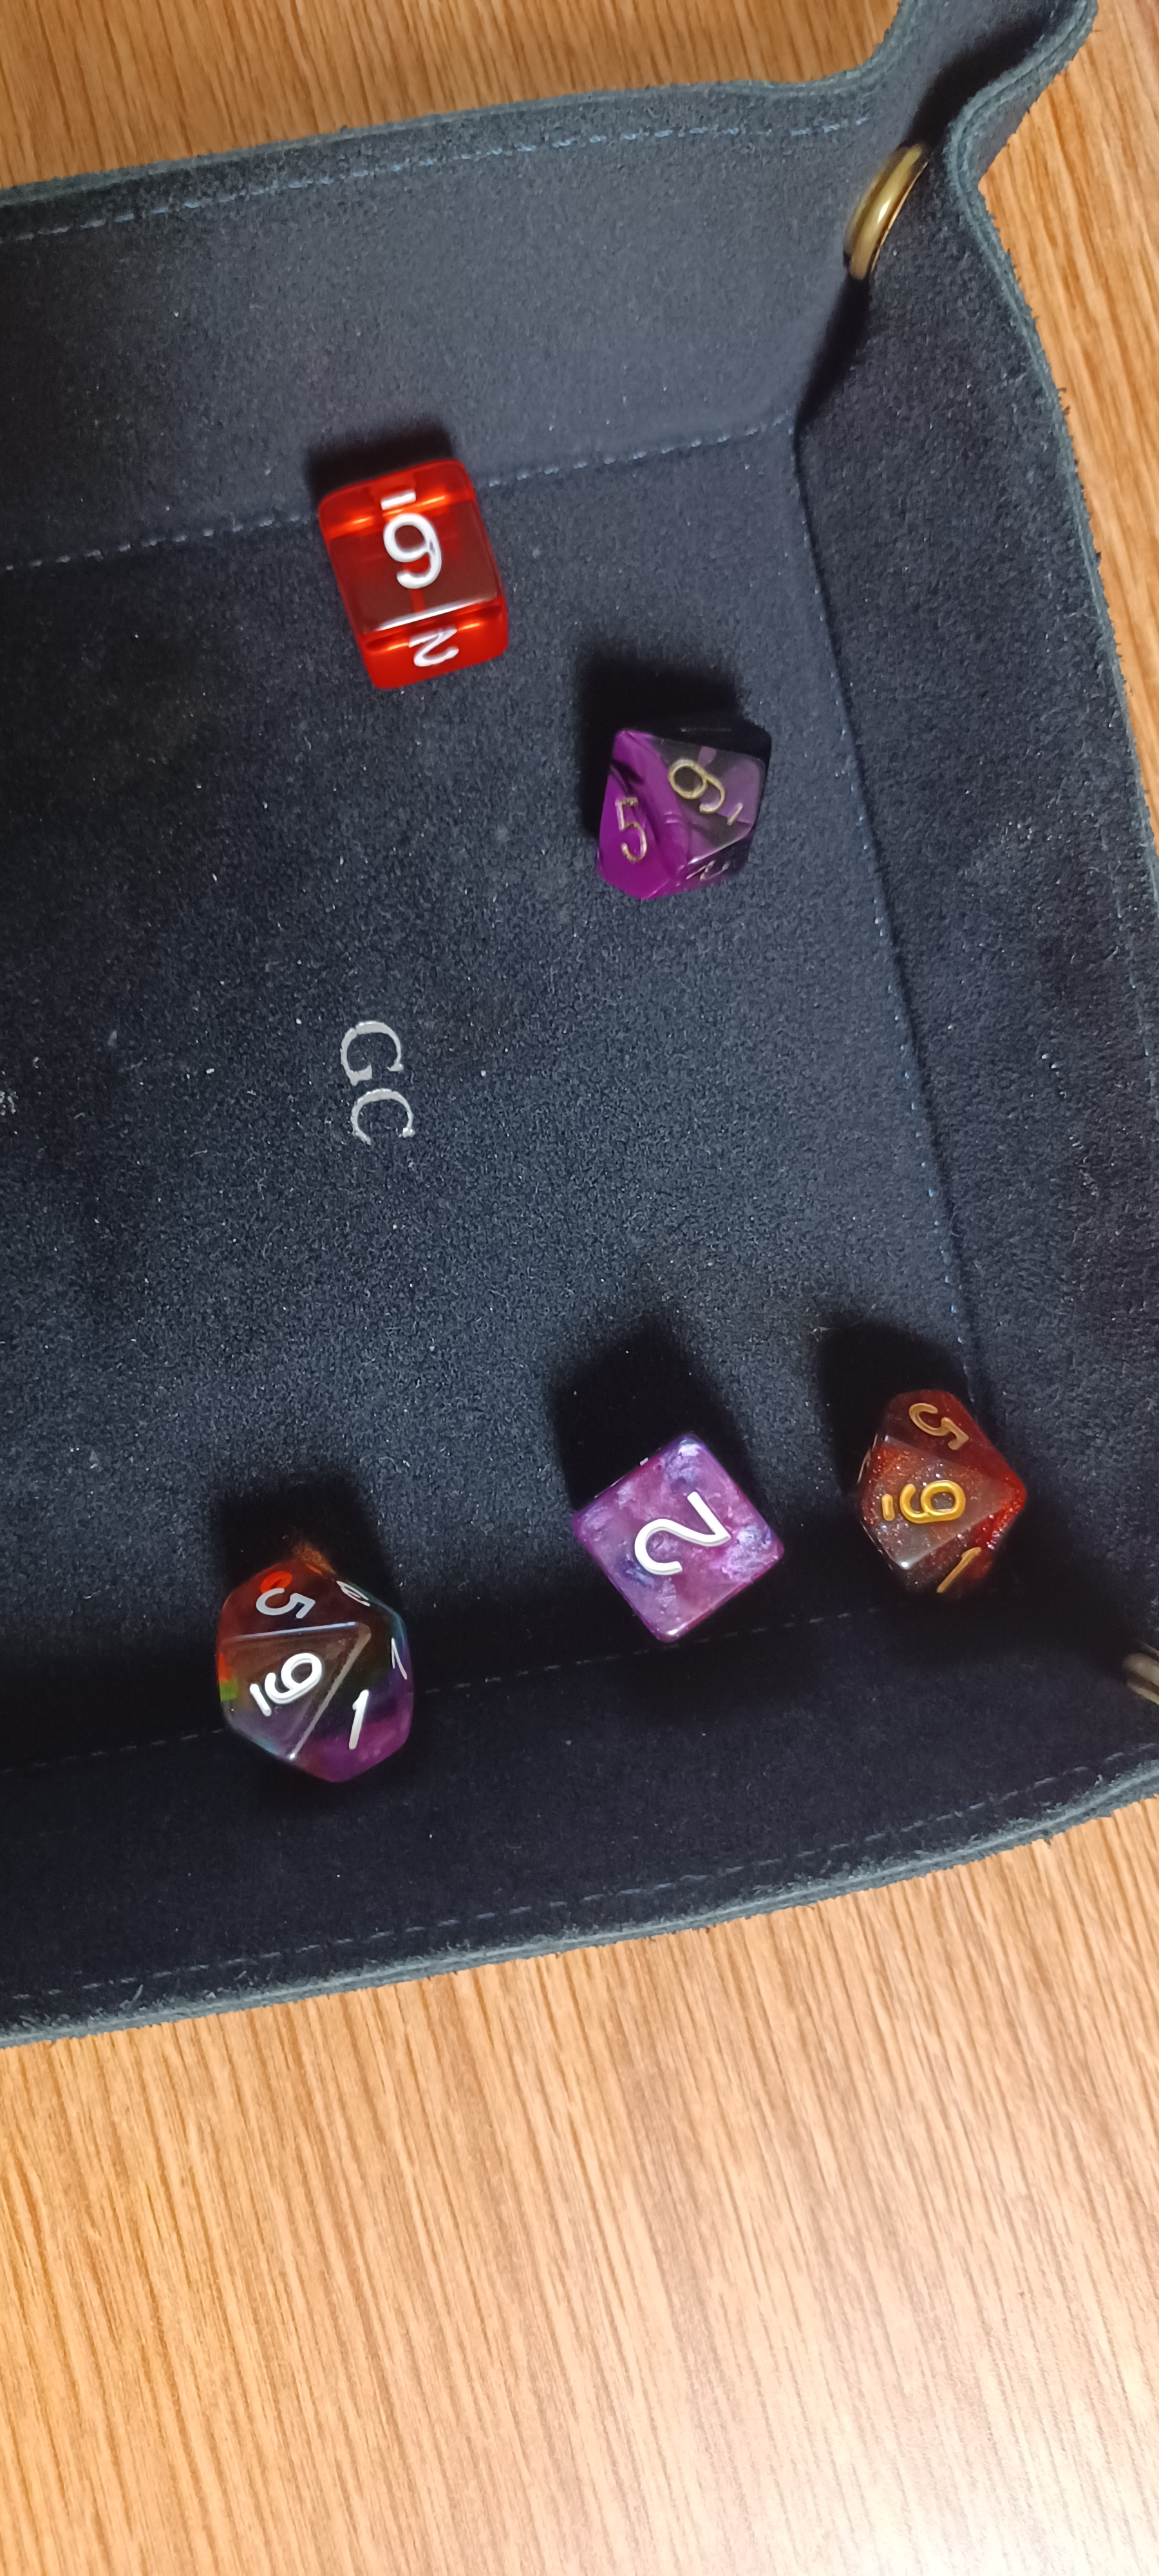nine: (172, 1518, 460, 1827), (804, 1341, 1062, 1630), (561, 692, 801, 931)
six: (273, 439, 538, 700)
two: (543, 1416, 808, 1705)
